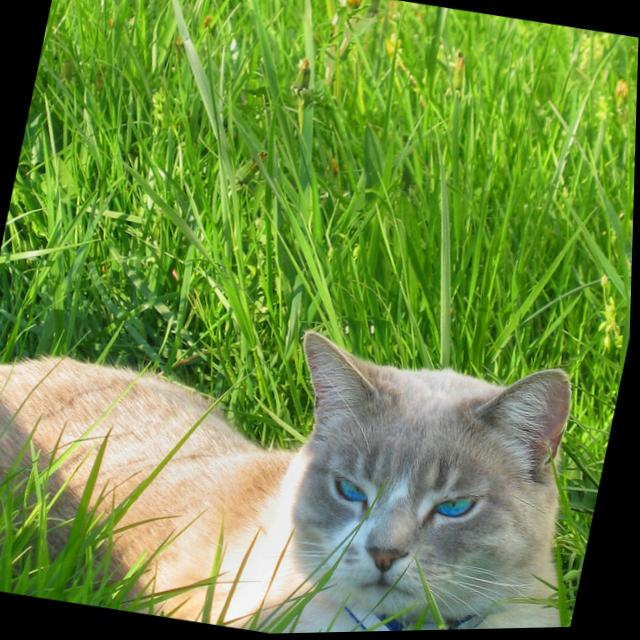animals: (265, 329, 569, 597)
